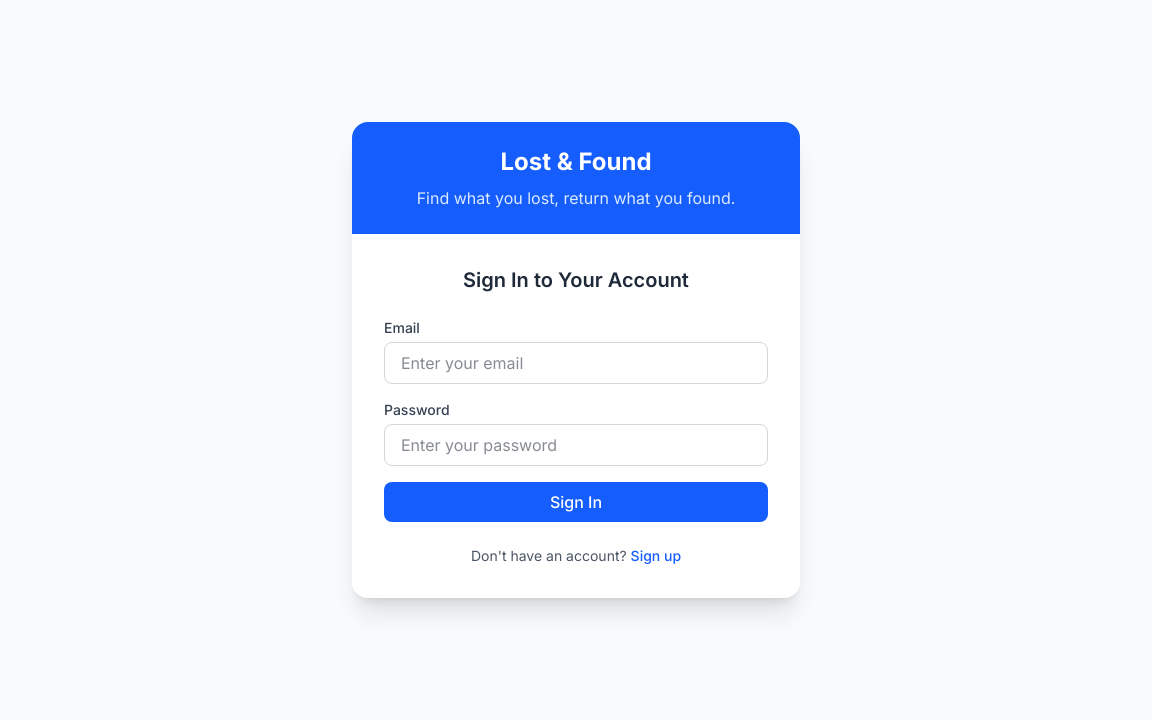
Scenario: application routes and authentication › logs in and loads the protected home page
In the field labelled "Email": (576, 363) [384,342,768,384], type "ada@example.com"
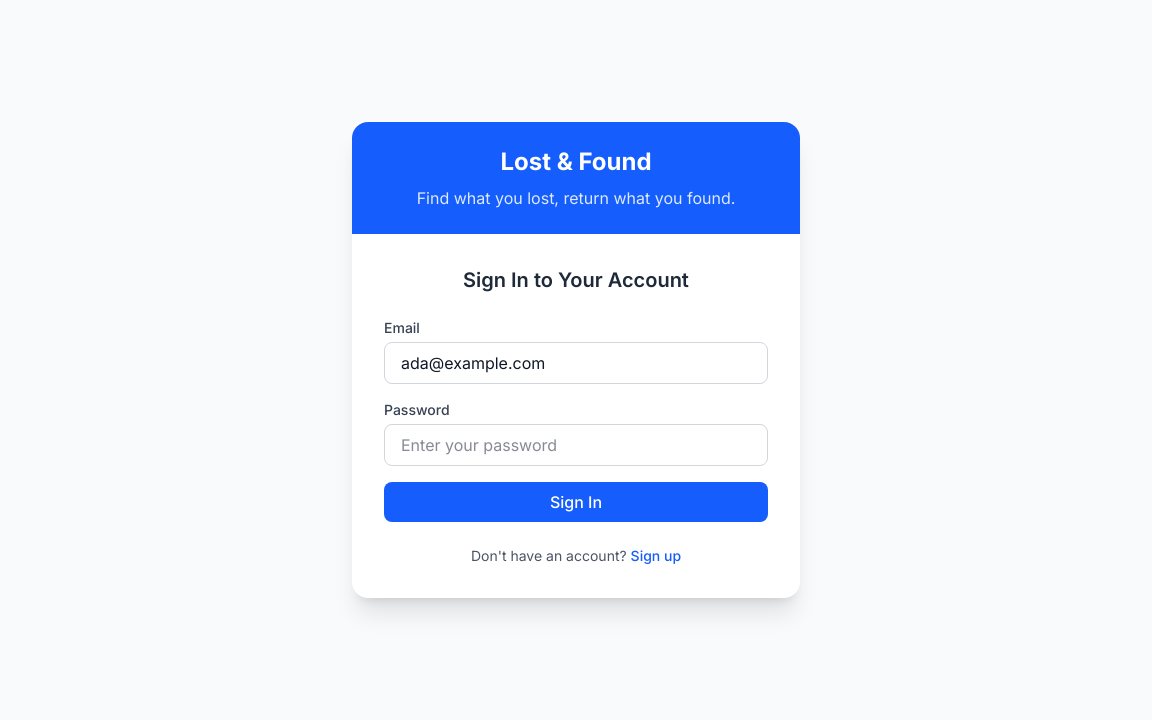
In the password field labelled "Password": (576, 445) [384,424,768,466], type "secret"
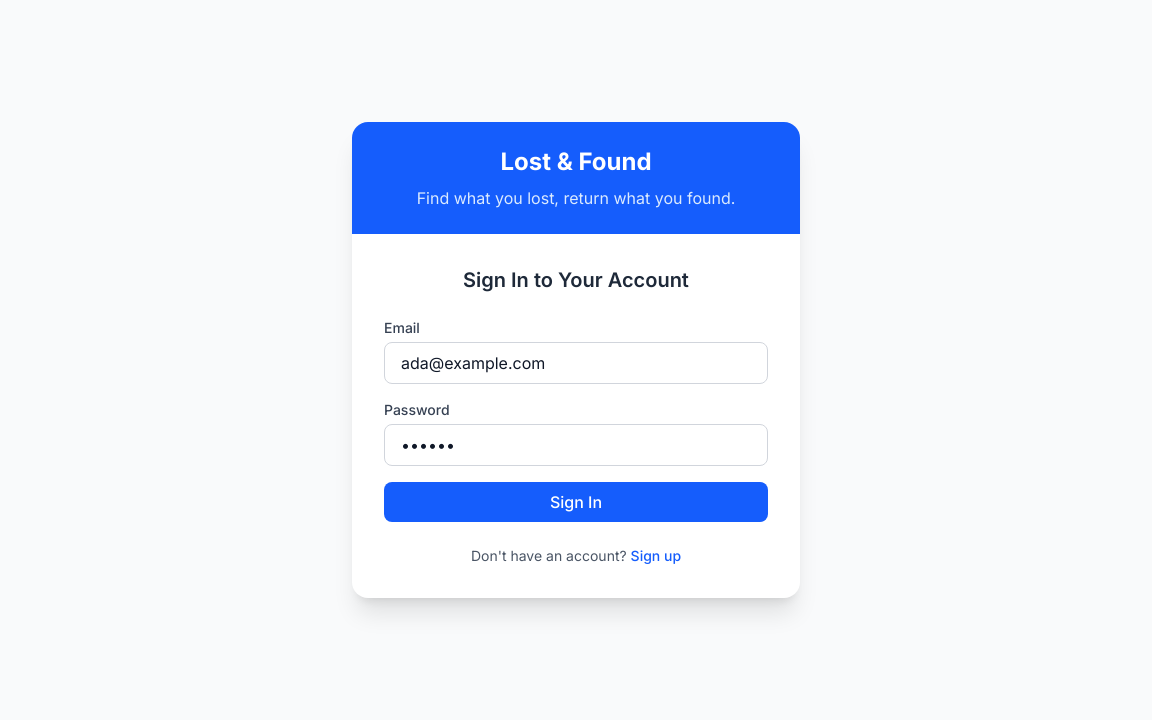
Click the button "Sign In": (576, 502) [384,482,768,522]
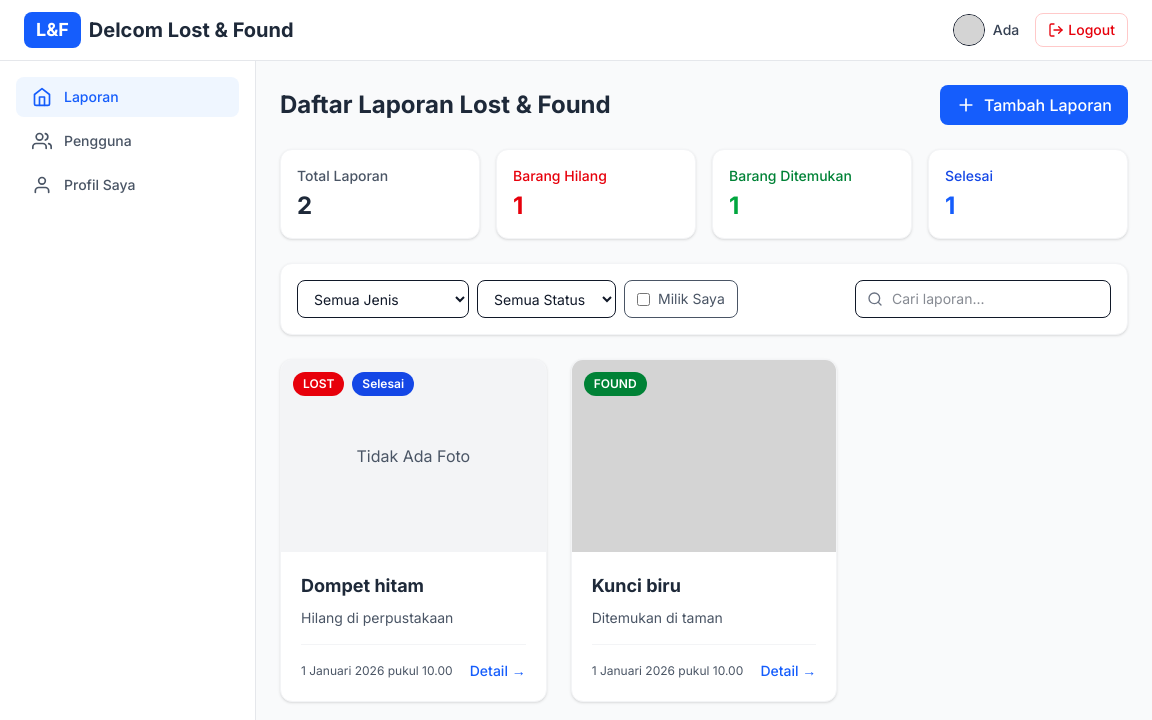
Expected: the heading "Daftar Laporan Lost & Found" is shown, [280,89,611,121]
Expected: the heading "Dompet hitam" is shown, [301,575,424,596]
Expected: the heading "Kunci biru" is shown, [592,575,681,596]
